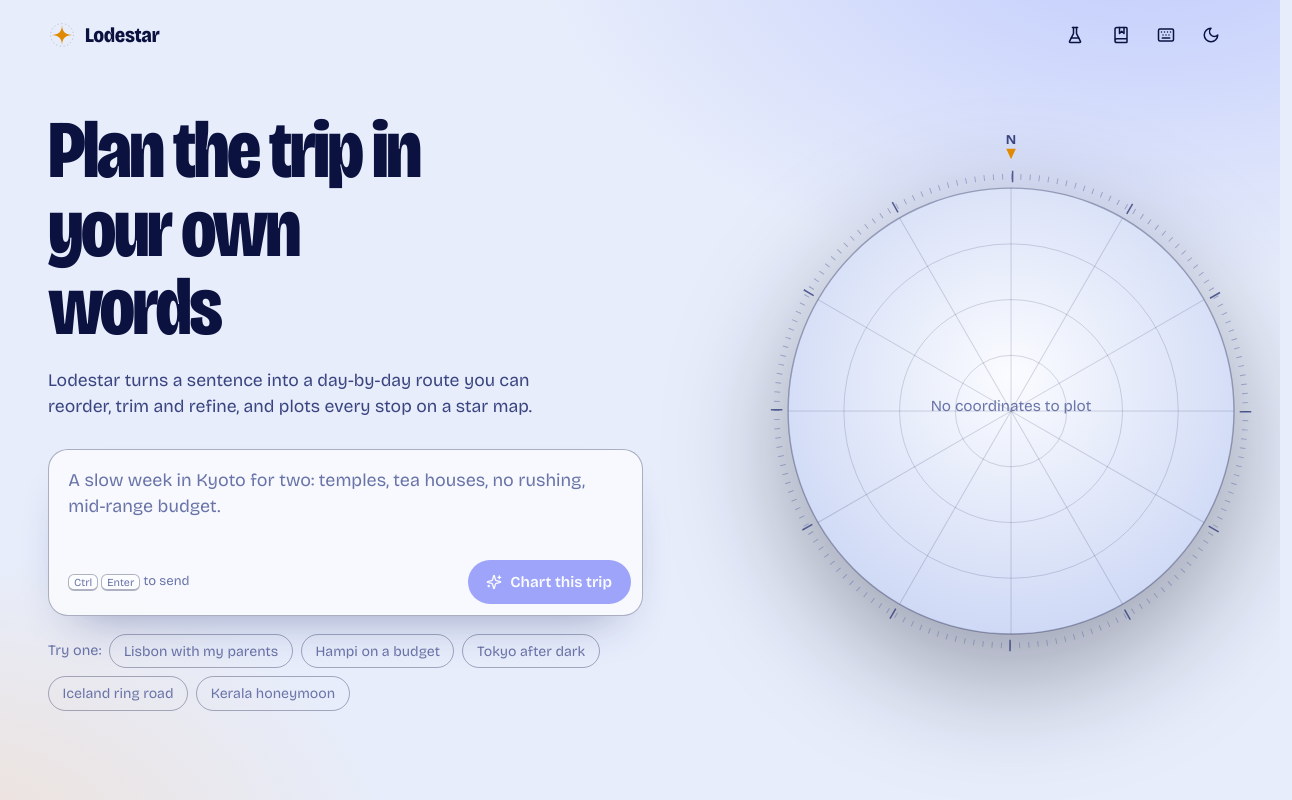
App › shows a readable error with retry when the server fails
The image size is (1292, 800).
Replace the text in the text box named "describe your trip" with "Three days somewhere nice" at x=345, y=501, box [49, 450, 642, 552]
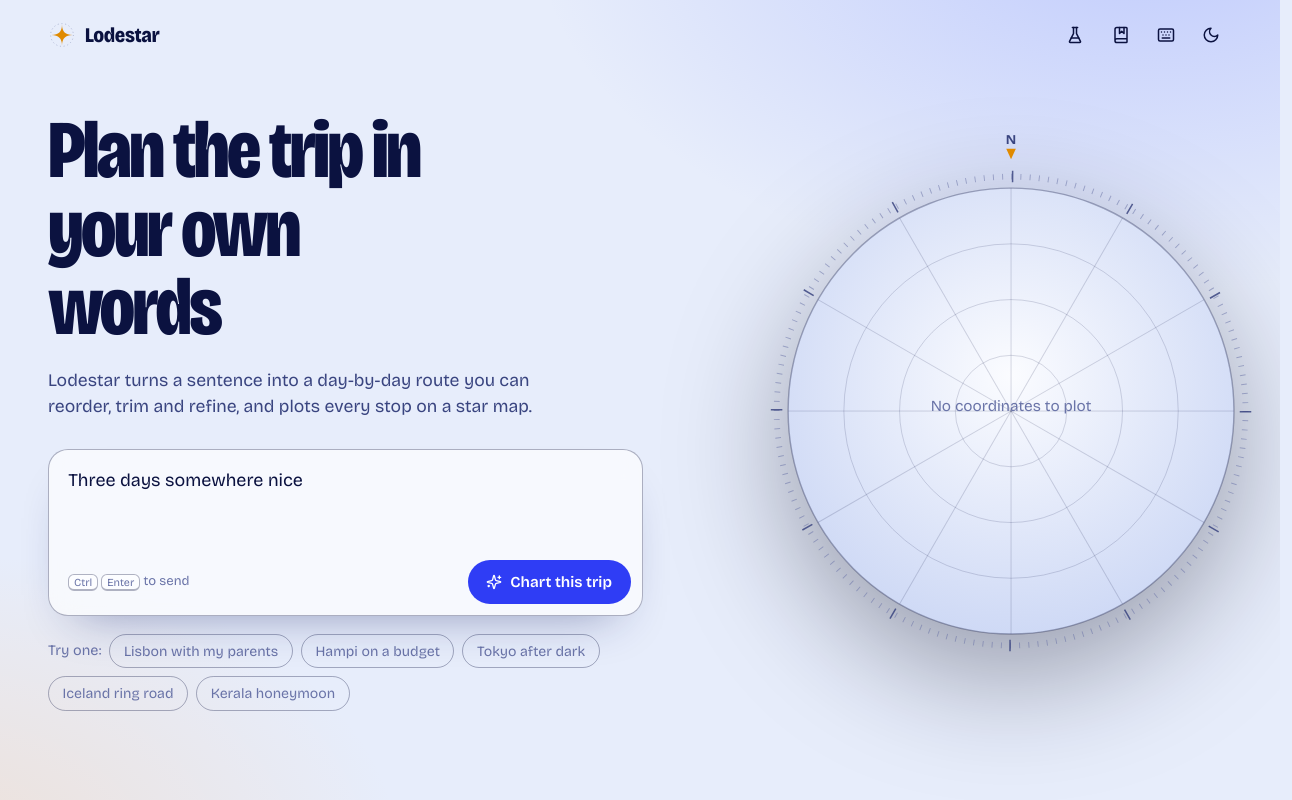
Click the button "Chart this trip" at x=549, y=582, box [468, 560, 630, 604]
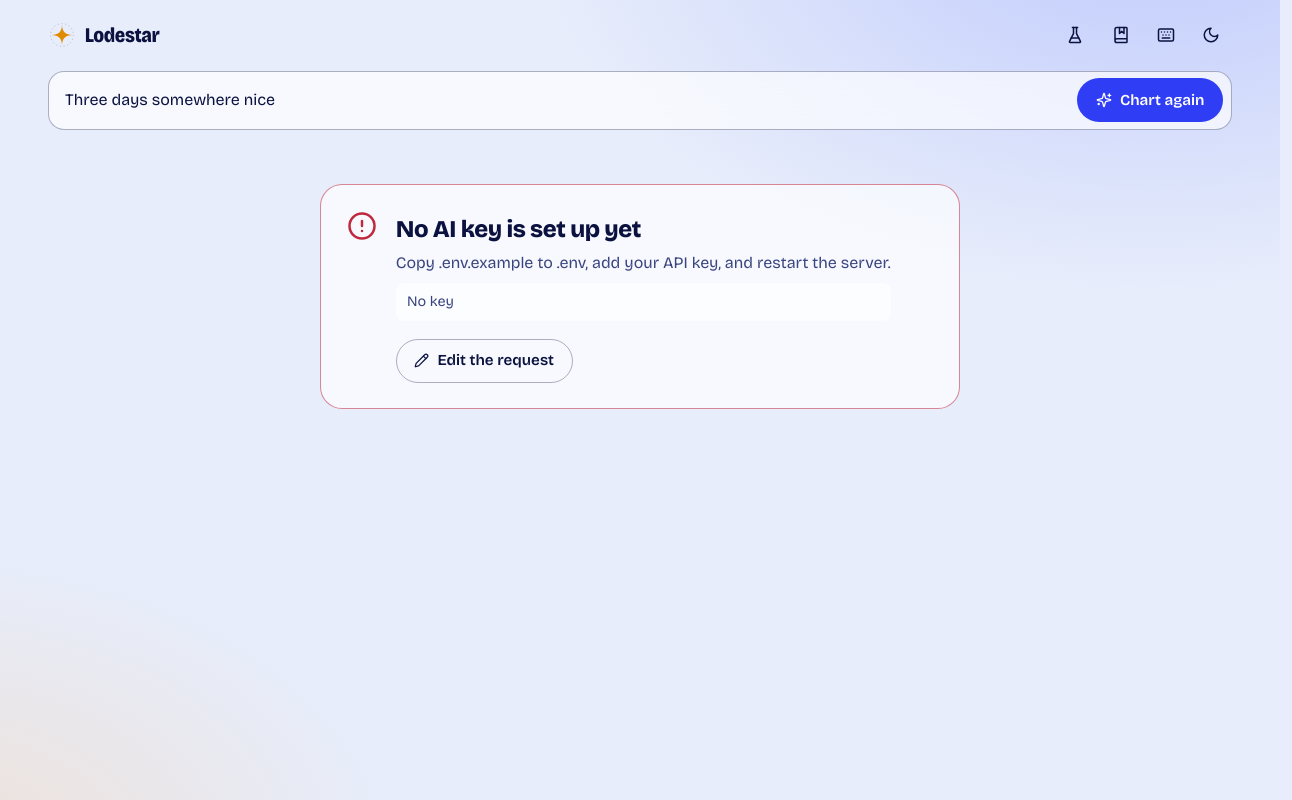
Now the heading "No AI key is set up yet" is shown, box [396, 214, 641, 242]
